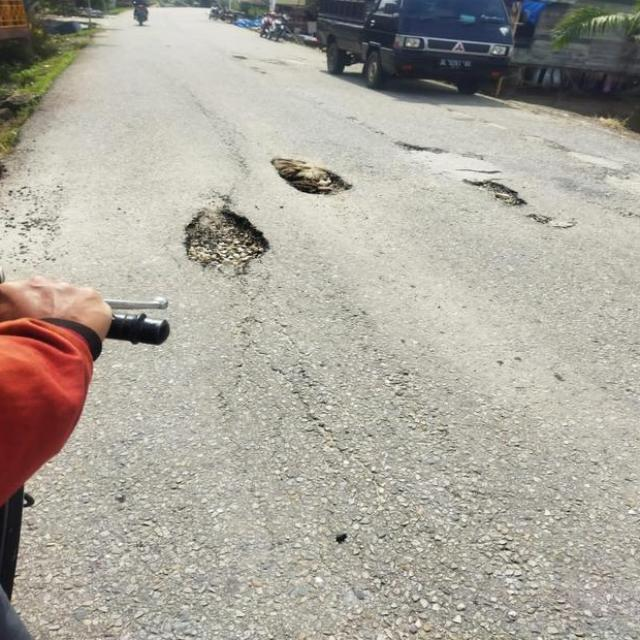Lubang: (185, 208, 269, 268), (265, 151, 344, 196)
